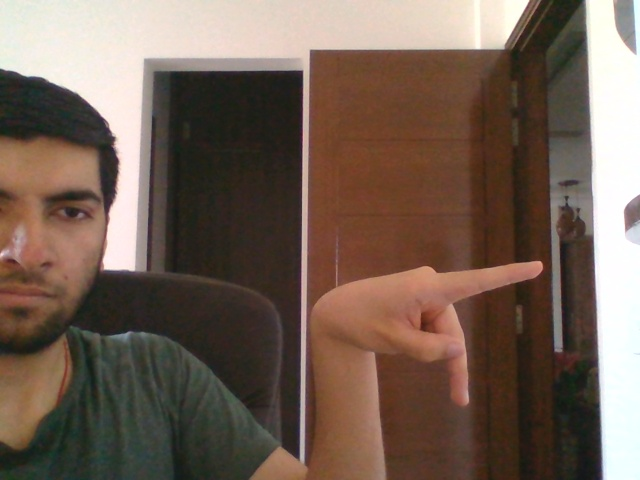LetterP: (308, 259, 544, 410)
